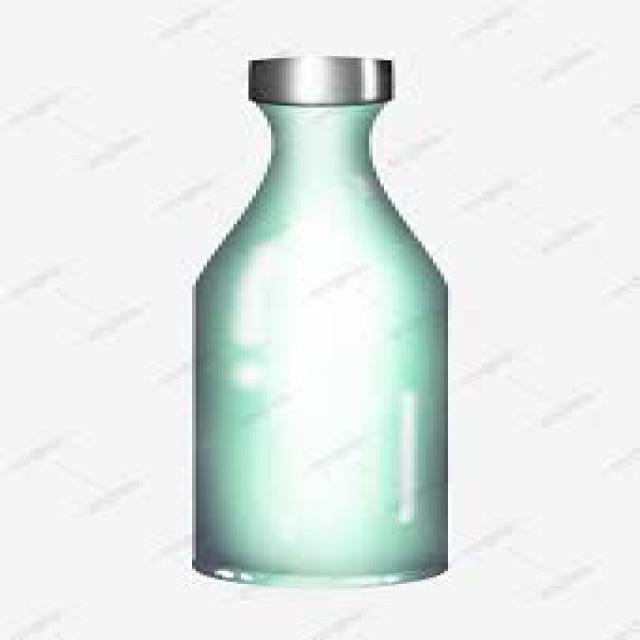Glass-Non-Biodegradable but Recyclable-: (187, 55, 448, 588)
